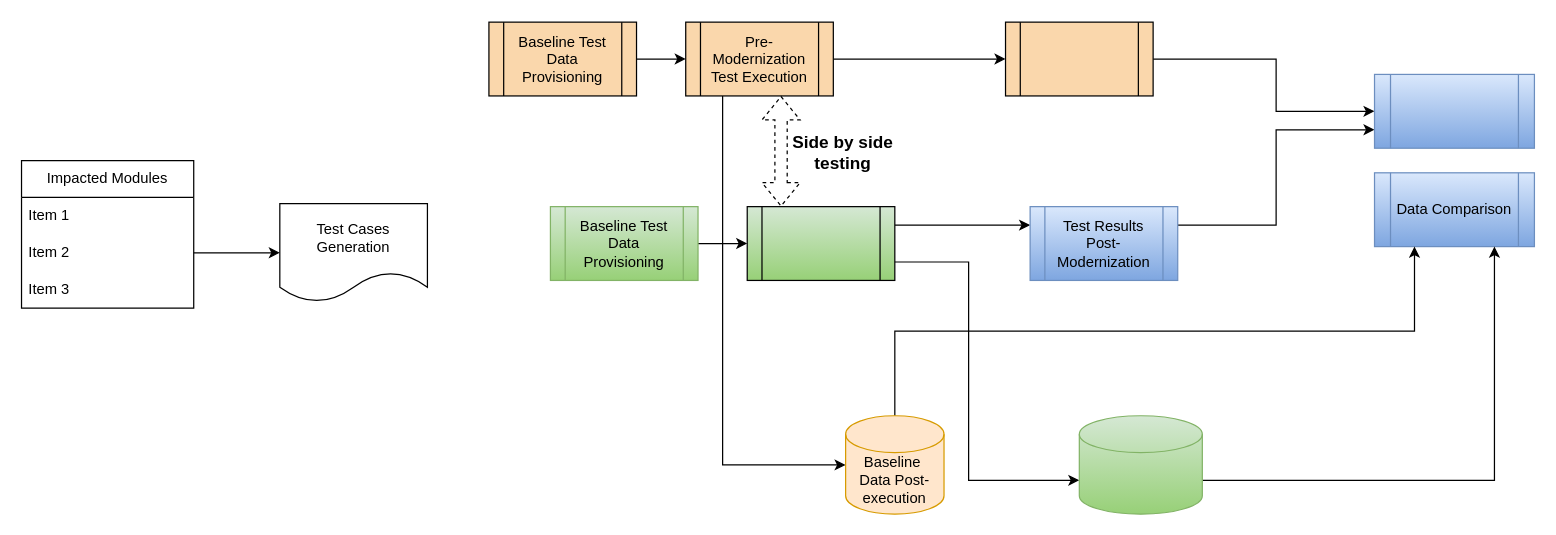
Some shapes in this 1556 by 535 pixel diagram are drawn without their labels. The centre of each missing label's shape, as x and y in pixels:
"Post-Modernization Execution Data" belongs at point (1140, 464).
"Post-Modernization Test Execution" belongs at point (820, 242).
"Test Results Baseline" belongs at point (1078, 58).
"Test Results Comparison" belongs at point (1453, 110).
